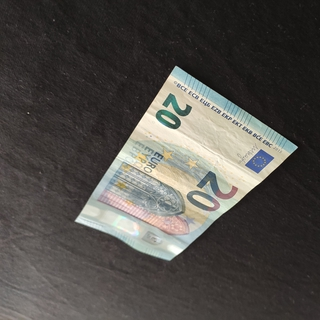20EUROFront: (73, 65, 298, 262)
